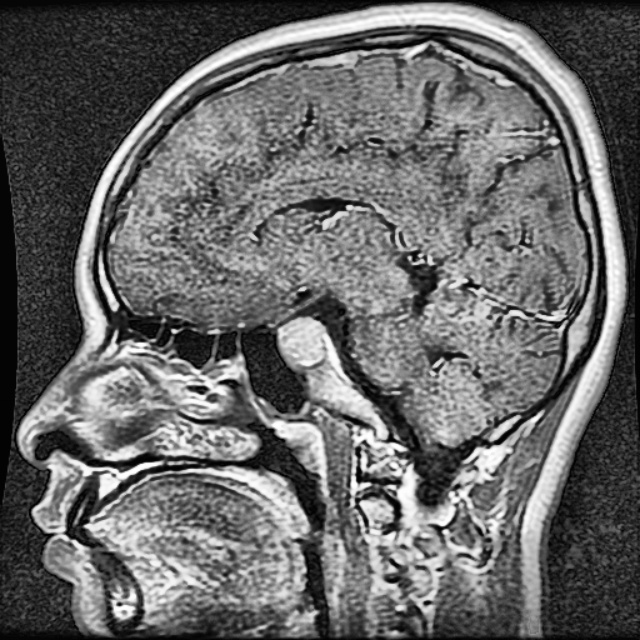Pituitary: (277, 317, 327, 367)
